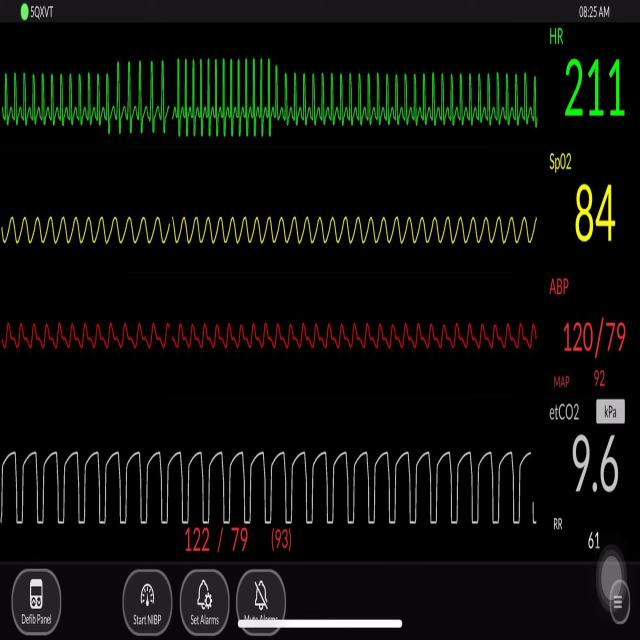danger: (288, 47, 542, 135), (113, 47, 280, 149), (9, 59, 110, 139)
